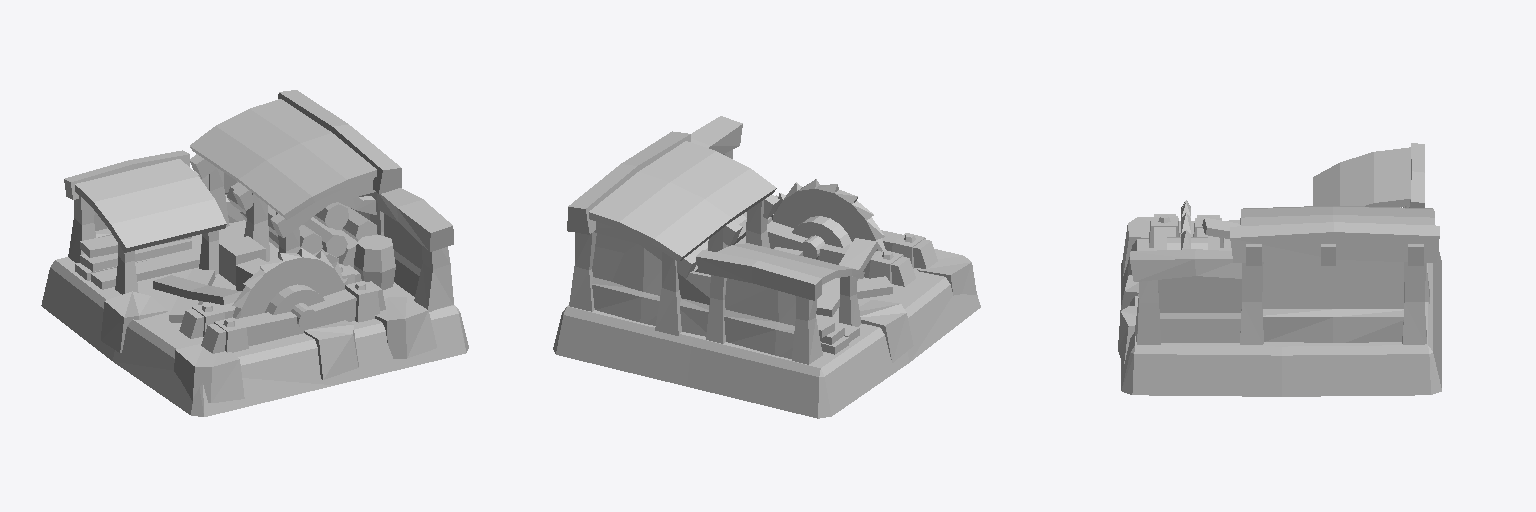
File: Lumbermill.obj
3 views of the same model, side by side, from view 1: azimuth 30°, elevation 25°; view 2: azimuth 150°, elevation 25°; view 3: azimuth 270°, elevation 25° (orthographic).
Parts seen in each view (by area): view 1: LumberMill, LumberMill.005, LumberMill.020, LumberMill.035, LumberMill.032, LumberMill.057, LumberMill.004, LumberMill.027, LumberMill.059, LumberMill.058, LumberMill.056, LumberMill.026 (+23 smaller); view 2: LumberMill, LumberMill.005, LumberMill.017, LumberMill.035, LumberMill.023, LumberMill.015, LumberMill.004, LumberMill.018, LumberMill.020, LumberMill.056, LumberMill.033, LumberMill.016 (+14 smaller); view 3: LumberMill, LumberMill.013, LumberMill.004, LumberMill.012, LumberMill.020, LumberMill.005, LumberMill.027, LumberMill.010, LumberMill.003, LumberMill.026, LumberMill.023, LumberMill.057 (+1 smaller).
Boxes of the visible parts, box(x1,y1,x2,y2) form: LumberMill: box(41, 220, 468, 416); LumberMill.005: box(190, 99, 376, 219); LumberMill.020: box(75, 159, 226, 252); LumberMill.035: box(232, 248, 348, 318); LumberMill.032: box(201, 281, 385, 353); LumberMill.057: box(174, 344, 244, 402); LumberMill.004: box(278, 90, 401, 193); LumberMill.027: box(377, 188, 453, 251); LumberMill.059: box(375, 297, 436, 358); LumberMill.058: box(304, 320, 358, 379); LumberMill.056: box(101, 291, 167, 352); LumberMill.026: box(414, 246, 453, 311); LumberMill: box(553, 268, 980, 418); LumberMill.005: box(589, 141, 776, 261); LumberMill.017: box(724, 278, 795, 358); LumberMill.035: box(771, 179, 885, 251); LumberMill.023: box(696, 250, 821, 300); LumberMill.015: box(592, 246, 659, 325); LumberMill.004: box(567, 131, 690, 234); LumberMill.018: box(595, 233, 661, 295); LumberMill.020: box(717, 243, 864, 284); LumberMill.056: box(859, 300, 913, 362); LumberMill.033: box(743, 213, 915, 286); LumberMill.016: box(678, 271, 710, 336); LumberMill: box(1121, 220, 1441, 396); LumberMill.013: box(1262, 260, 1403, 342); LumberMill.004: box(1230, 222, 1439, 262); LumberMill.012: box(1158, 276, 1241, 342); LumberMill.020: box(1313, 147, 1410, 206); LumberMill.005: box(1240, 206, 1434, 225); LumberMill.027: box(1130, 249, 1241, 281); LumberMill.010: box(1402, 262, 1426, 344); LumberMill.003: box(1240, 262, 1263, 344); LumberMill.026: box(1135, 280, 1160, 344); LumberMill.023: box(1409, 143, 1424, 207); LumberMill.057: box(1123, 216, 1180, 275).
Bounding box in the file's own units: 6.75 × 3.82 × 6.65.